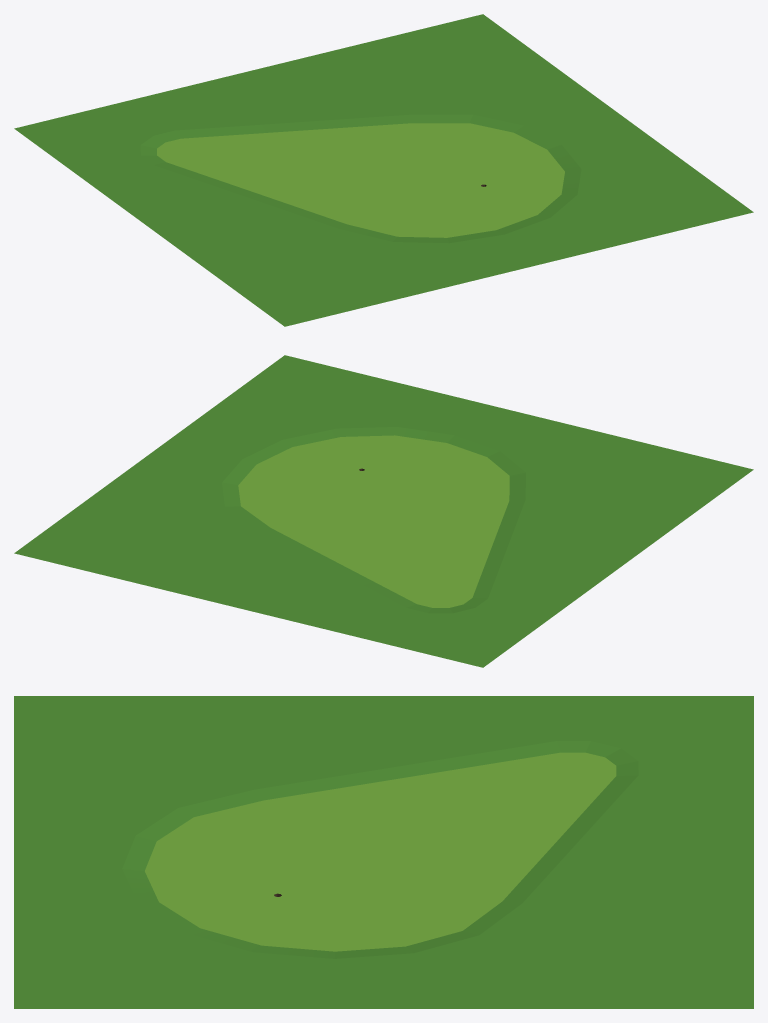
Rendered from tiles-nb_tile-golf-green-nb.fbx.
3 views of the same model, one above another, from view 1: azimuth 30°, elevation 25°; view 2: azimuth 150°, elevation 25°; view 3: azimuth 270°, elevation 25° (orthographic). The views are drawn at different scales.
Visible parts, largest first — view 1: tiles_nb_tile_golf_green_nb; view 2: tiles_nb_tile_golf_green_nb; view 3: tiles_nb_tile_golf_green_nb.
Boxes of the visible parts, x1,y1,x2,y2 form: tiles_nb_tile_golf_green_nb: [14, 14, 753, 326]; tiles_nb_tile_golf_green_nb: [14, 355, 753, 667]; tiles_nb_tile_golf_green_nb: [14, 696, 753, 1008].
Size of the model in its own units: 200 by 3.33 by 200.
